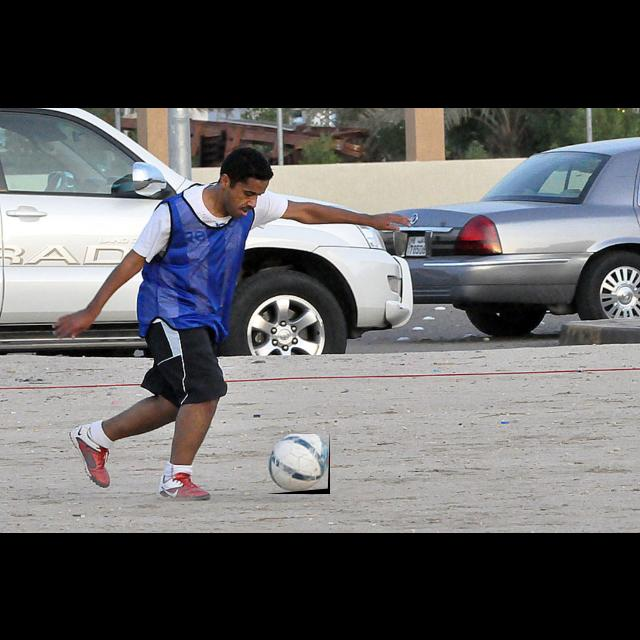Football: (268, 434, 330, 494)
